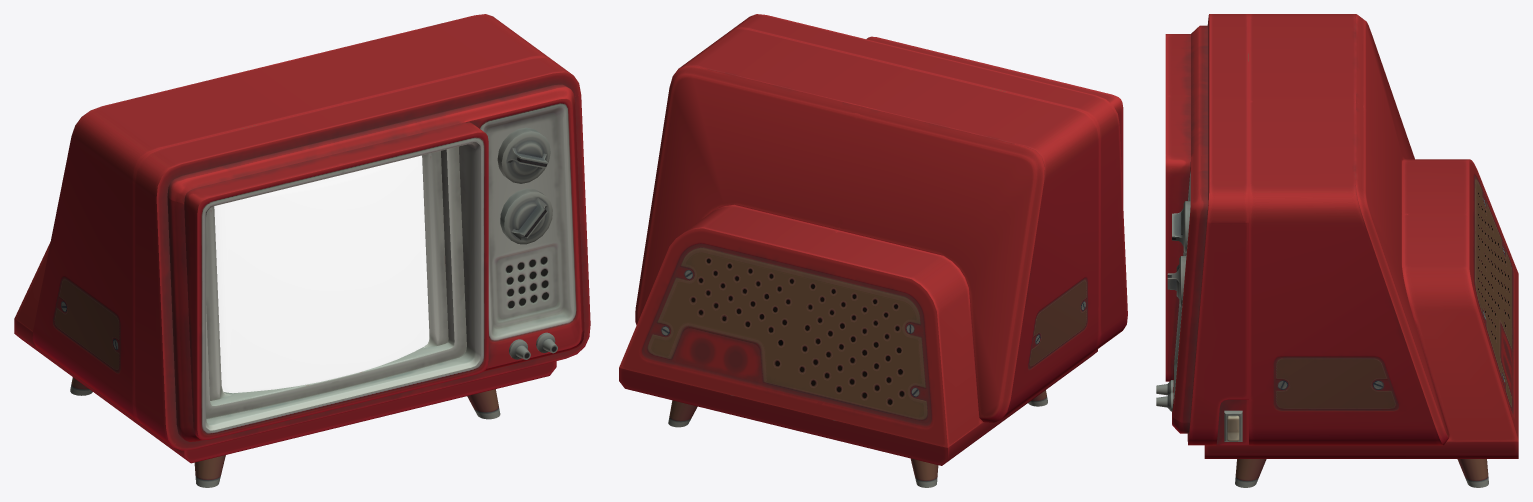
The model's file is redTV.glb.
3 renders of one model, left to right at view 1: azimuth 30°, elevation 25°; view 2: azimuth 150°, elevation 25°; view 3: azimuth 270°, elevation 25°, orthographic. The views are drawn at different scales.
Parts seen in each view (by area): view 1: front_body_low001_main_0, middel_body_low001_main_0, redTVScreen, rear_body_low001_main_0, redTVButton, redTVRegulator2, legs_low002, legs_low001_main_0; view 2: middel_body_low001_main_0, rear_body_low001_main_0, front_body_low001_main_0, legs_low003, legs_low004; view 3: middel_body_low001_main_0, front_body_low001_main_0, rear_body_low001_main_0, legs_low001_main_0, legs_low004, redTVButton, power_button_low001_main_0, redTVRegulator2.
Part boxes in pixels (bbox=[...]): front_body_low001_main_0: bbox=[134, 56, 590, 450]; middel_body_low001_main_0: bbox=[32, 14, 551, 422]; redTVScreen: bbox=[214, 155, 429, 393]; rear_body_low001_main_0: bbox=[14, 242, 556, 463]; redTVButton: bbox=[497, 127, 550, 183]; redTVRegulator2: bbox=[500, 188, 552, 244]; legs_low002: bbox=[194, 455, 225, 487]; legs_low001_main_0: bbox=[467, 389, 500, 419]; middel_body_low001_main_0: bbox=[635, 28, 1099, 422]; rear_body_low001_main_0: bbox=[619, 204, 1097, 465]; front_body_low001_main_0: bbox=[732, 14, 1127, 351]; legs_low003: bbox=[910, 458, 938, 487]; legs_low004: bbox=[668, 400, 697, 427]; middel_body_low001_main_0: bbox=[1249, 14, 1449, 445]; front_body_low001_main_0: bbox=[1165, 14, 1248, 445]; rear_body_low001_main_0: bbox=[1204, 159, 1518, 458]; legs_low001_main_0: bbox=[1235, 459, 1266, 487]; legs_low004: bbox=[1457, 459, 1488, 487]; redTVButton: bbox=[1172, 201, 1190, 253]; power_button_low001_main_0: bbox=[1224, 410, 1242, 441]; redTVRegulator2: bbox=[1167, 256, 1186, 307].
Bounding box in the file's own units: 2.06 × 1.6 × 1.65.
2 materials, 1 textured.
